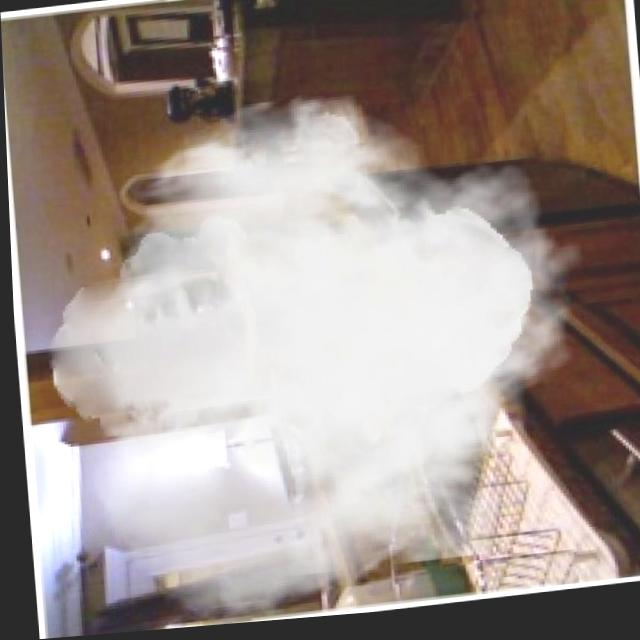Smoke: (114, 178, 481, 545)
